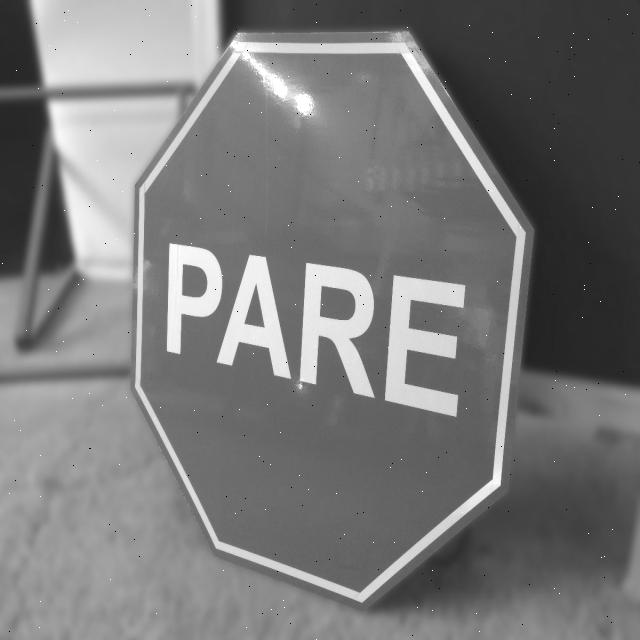Stop-sign: (122, 14, 547, 625)
